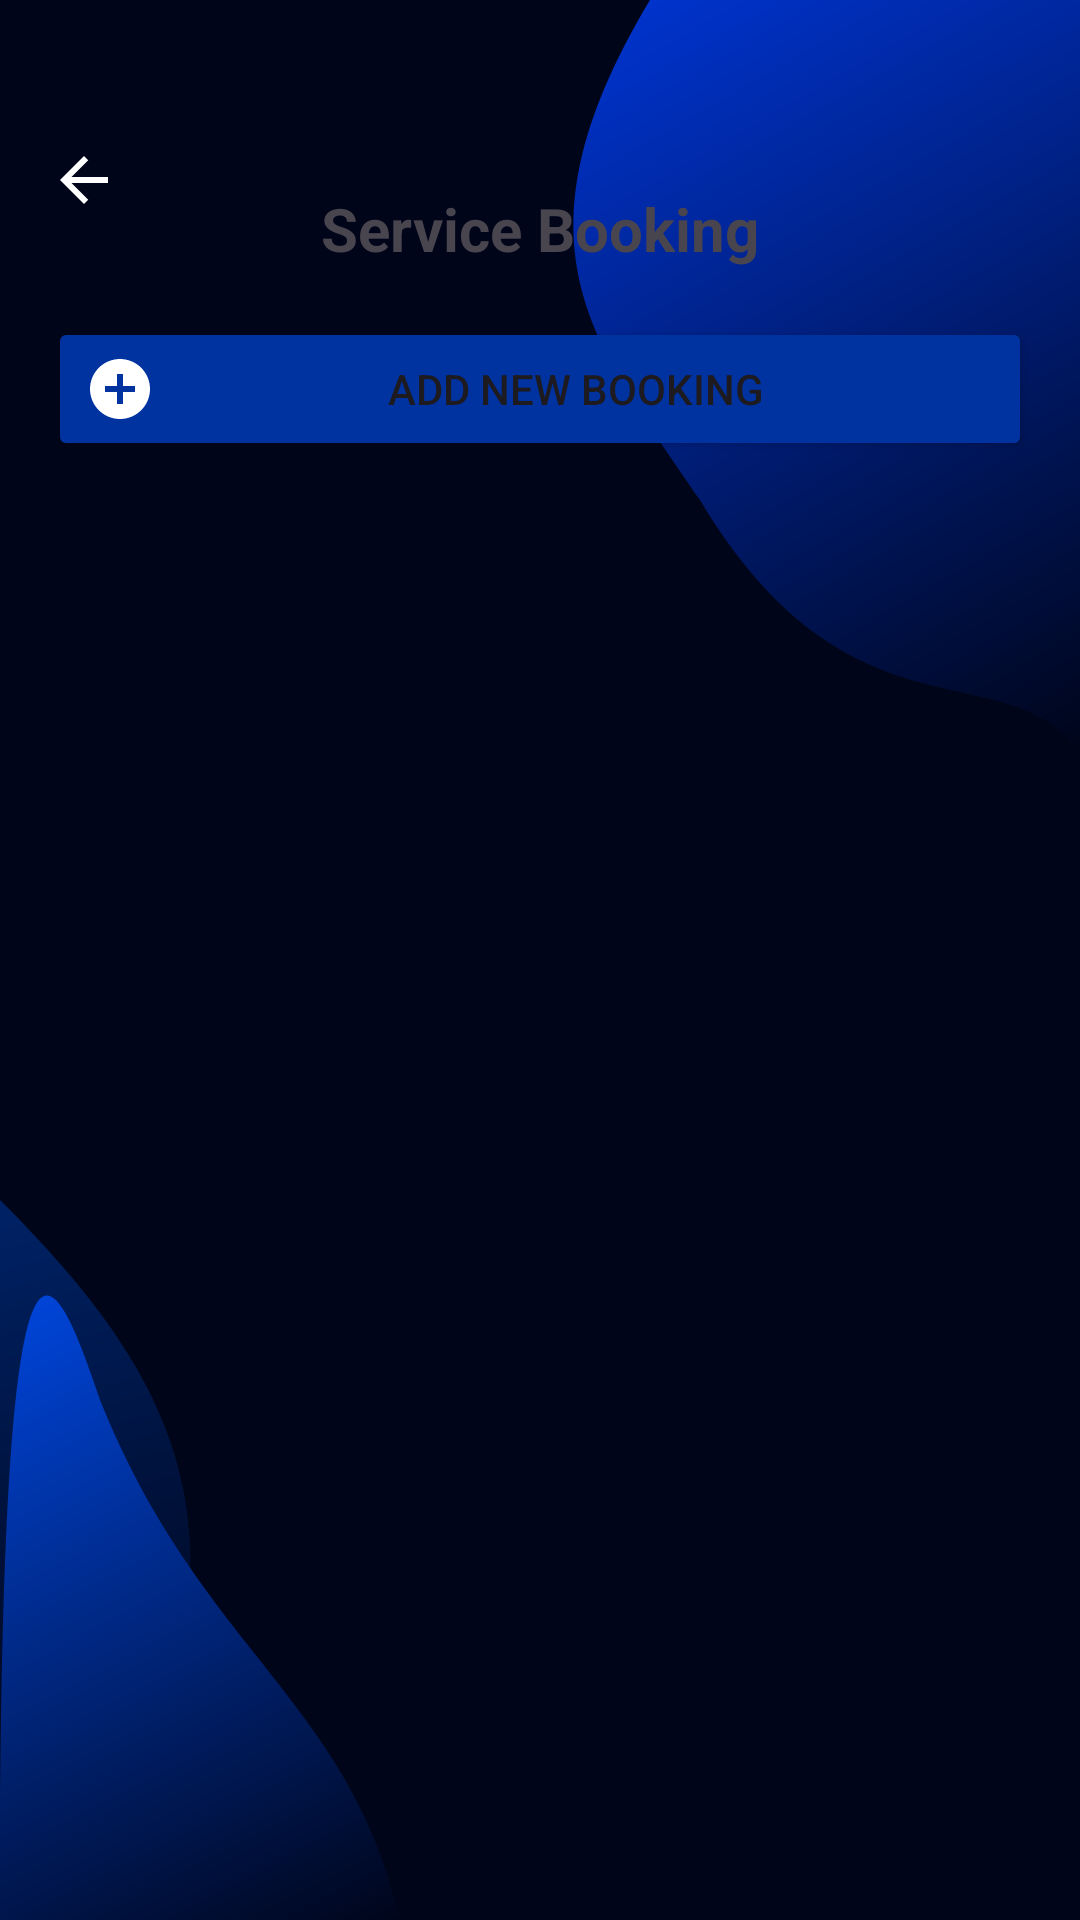

Where to tap for icons on this 1080x1920 app screen, as (x=x, y=y):
back: (x=84, y=180)
